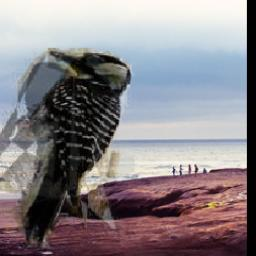Woodpecker: (0, 48, 135, 250)
